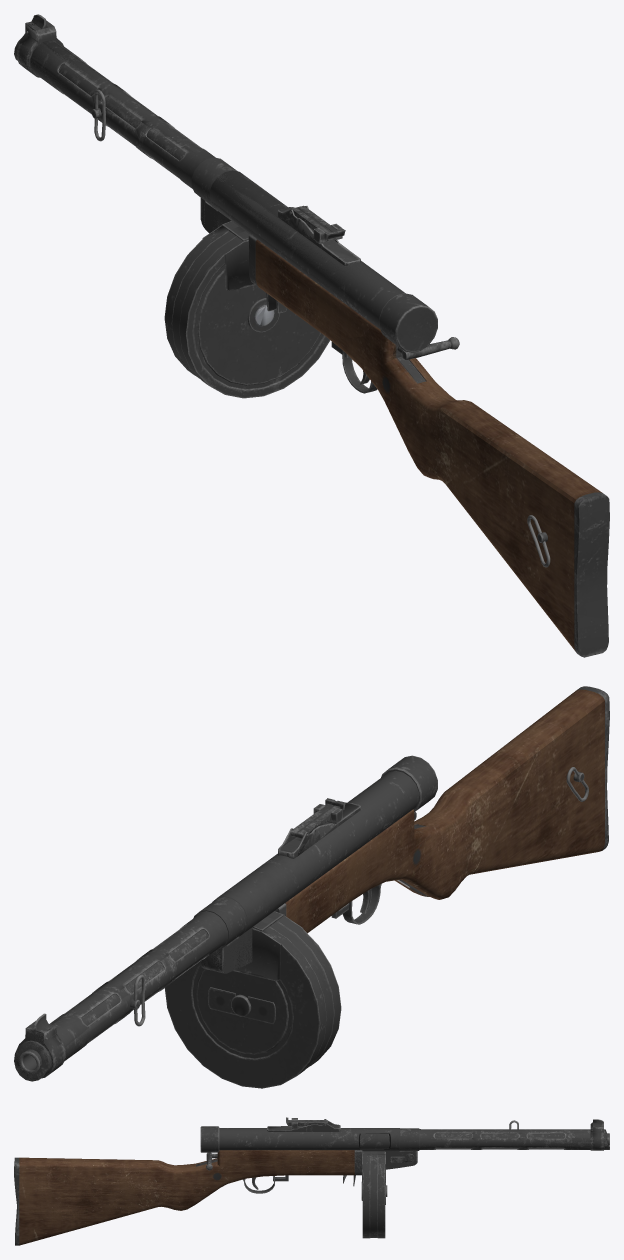
The model's file is smg_p90.gltf.
3 views of the same model, one above another, from view 1: azimuth 30°, elevation 25°; view 2: azimuth 150°, elevation 25°; view 3: azimuth 270°, elevation 25° (orthographic). The views are drawn at different scales.
Parts seen in each view (by area): view 1: LOD, Body, Magazine; view 2: Body, LOD, Magazine; view 3: Body, LOD, Magazine.
Boxes of the visible parts, x1=… form: LOD: x1=14, y1=15, x2=609, y2=657; Body: x1=14, y1=14, x2=609, y2=657; Magazine: x1=164, y1=221, x2=329, y2=398; Body: x1=14, y1=686, x2=609, y2=1081; LOD: x1=14, y1=686, x2=609, y2=1088; Magazine: x1=165, y1=911, x2=341, y2=1087; Body: x1=14, y1=1117, x2=609, y2=1245; LOD: x1=14, y1=1117, x2=609, y2=1245; Magazine: x1=361, y1=1151, x2=387, y2=1238.
Bounding box in the file's own units: 0.1387 × 0.2003 × 0.875.
Materials: 1 (1 with a texture image).
